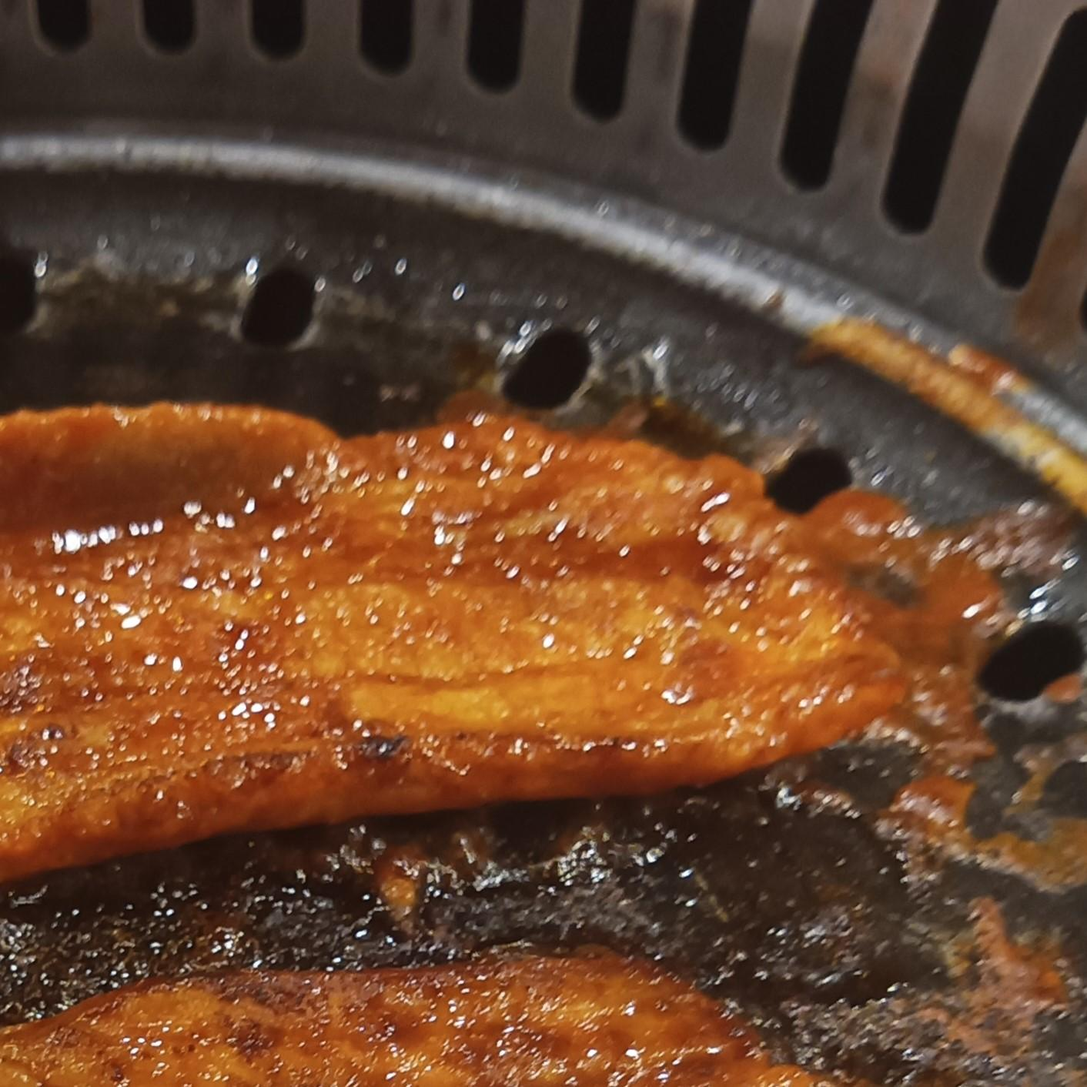Overcooked: (0, 955, 824, 1086)
Well-Cooked: (0, 400, 978, 881)
